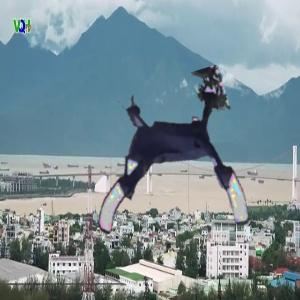drone: (83, 85, 247, 249)
